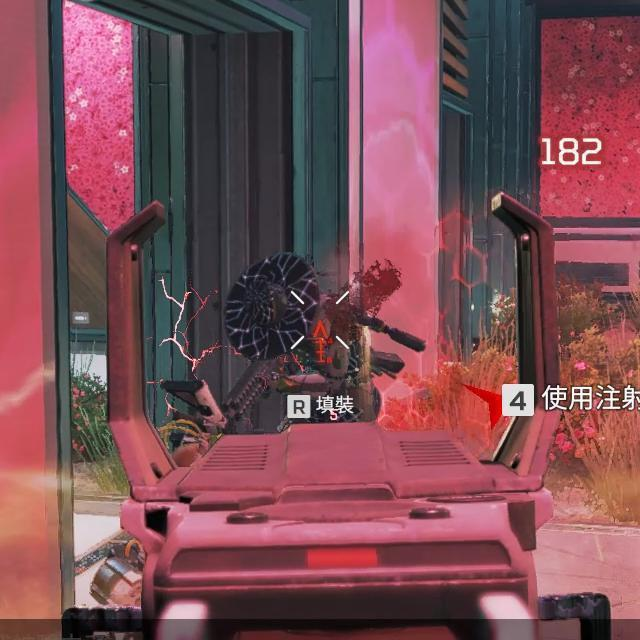avatar: (223, 251, 382, 425)
